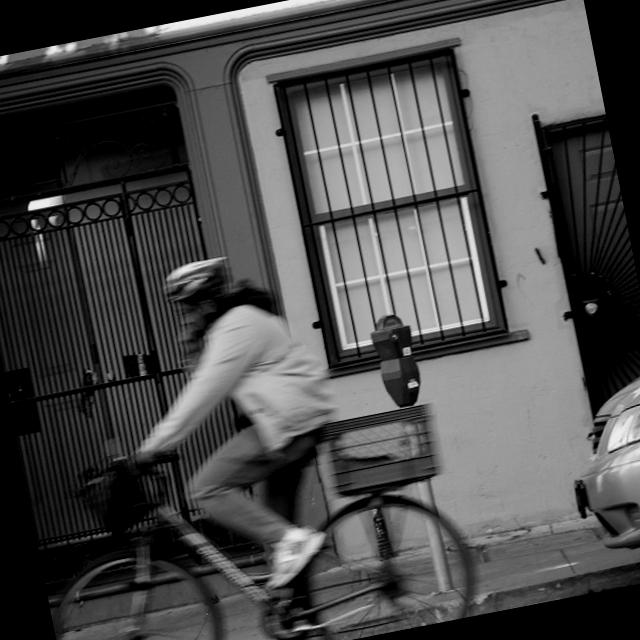Vehicle: (551, 357, 640, 577)
